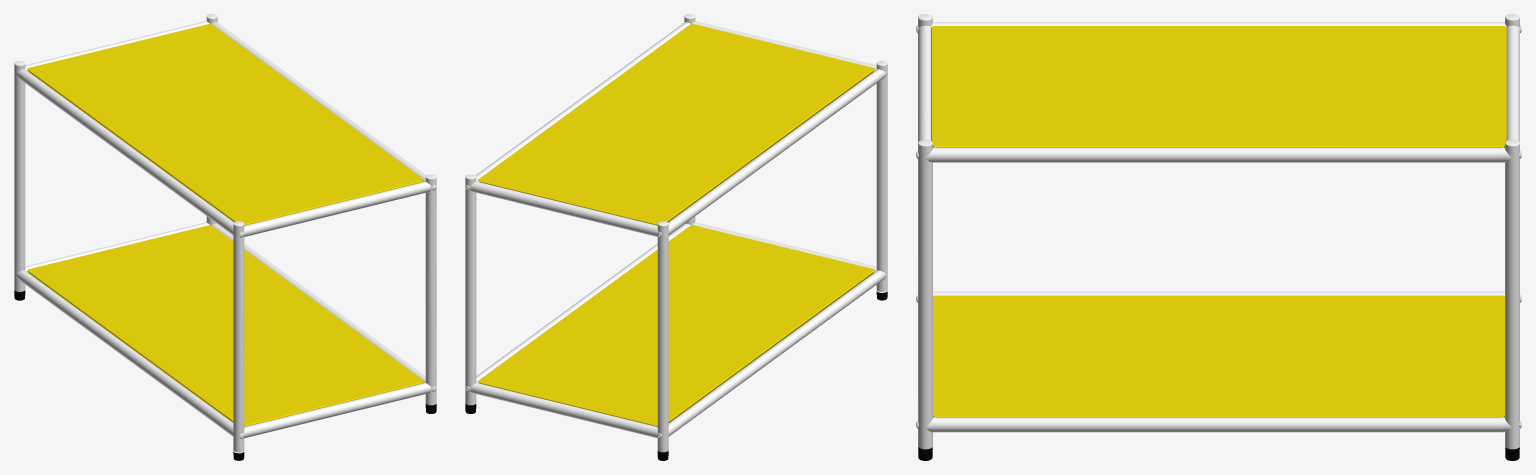
The model's file is 80x40x40-1-1-yellow_optimized_optimized.glb.
3 views of the same model, side by side, from view 1: azimuth 30°, elevation 25°; view 2: azimuth 150°, elevation 25°; view 3: azimuth 270°, elevation 25° (orthographic). The views are drawn at different scales.
Parts seen in each view (by area): view 1: 直角鐵板-80x40-5 - 零件, new-上塞-1 - 零件; view 2: 直角鐵板-80x40-5 - 零件, new-上塞-1 - 零件; view 3: 直角鐵板-80x40-5 - 零件, new-上塞-1 - 零件.
Part boxes in pixels (x1,y1,x2,y2): 直角鐵板-80x40-5 - 零件: [27, 23, 423, 426]; new-上塞-1 - 零件: [14, 14, 436, 460]; 直角鐵板-80x40-5 - 零件: [478, 23, 874, 426]; new-上塞-1 - 零件: [465, 14, 887, 452]; 直角鐵板-80x40-5 - 零件: [931, 26, 1506, 417]; new-上塞-1 - 零件: [916, 14, 1521, 449].
Size of the model in its own units: 0.3992 by 0.4453 by 0.7732.
